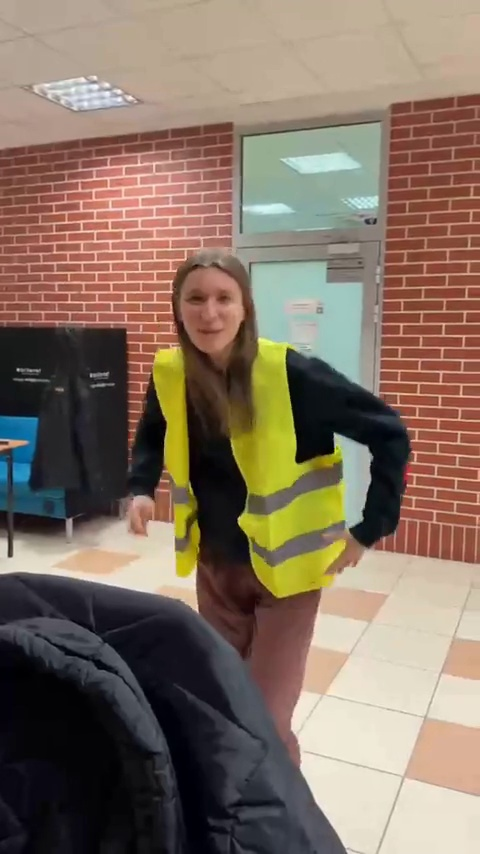vest: (150, 250, 404, 694)
